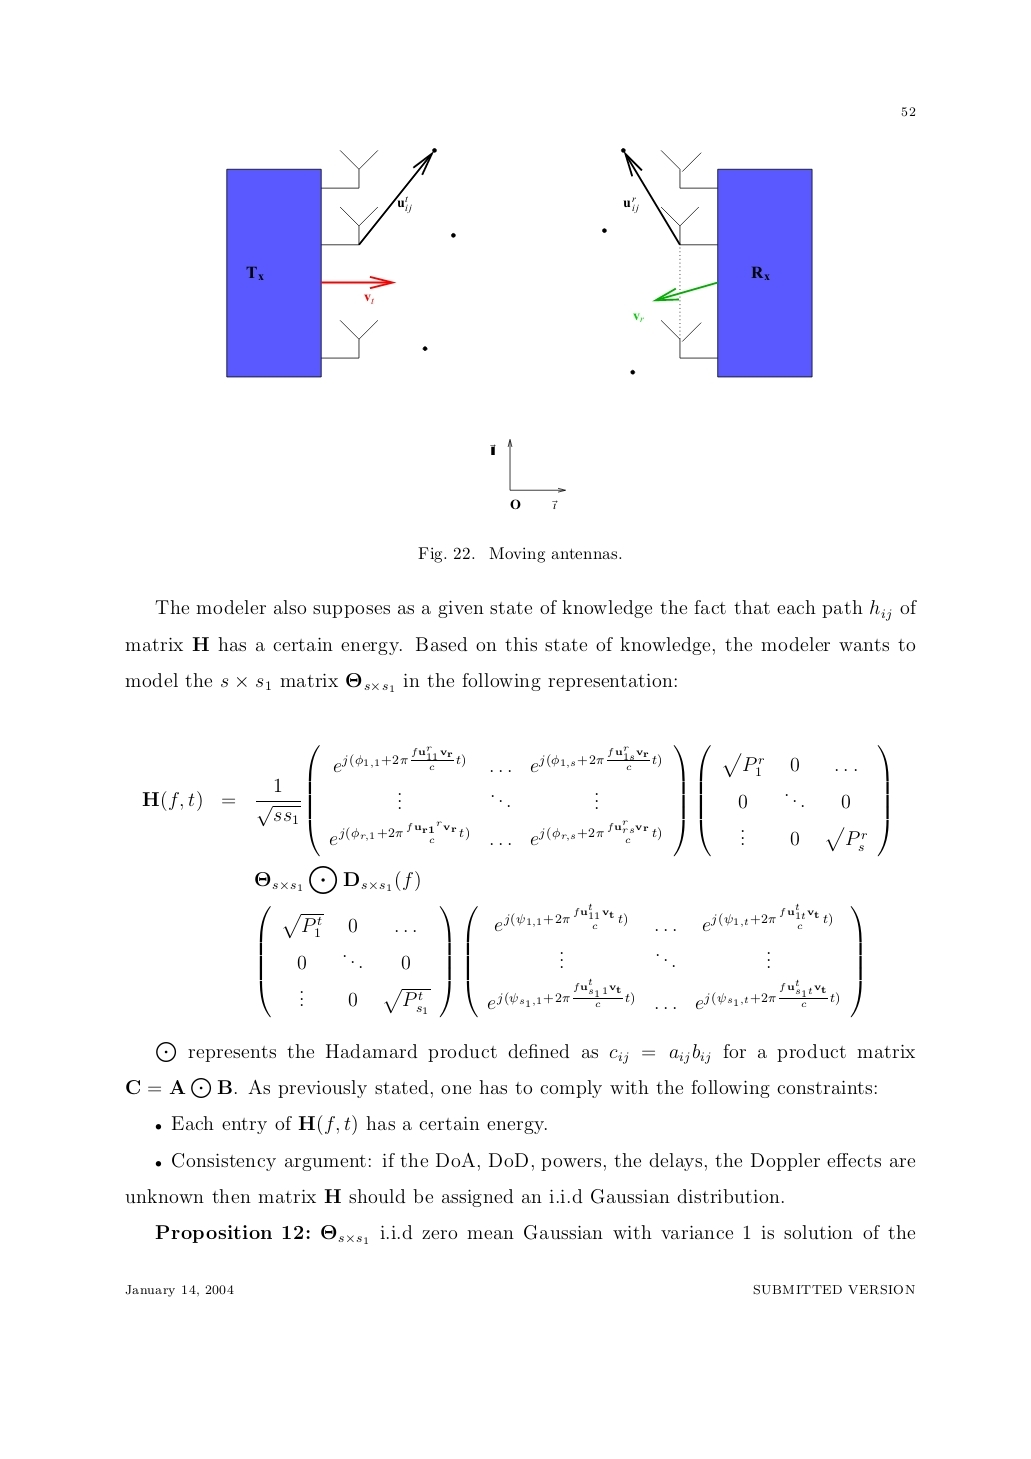figure: (227, 147, 455, 378), (603, 147, 812, 378), (490, 439, 565, 509)
formula: (142, 744, 888, 857), (259, 902, 861, 1018), (256, 864, 420, 893)
